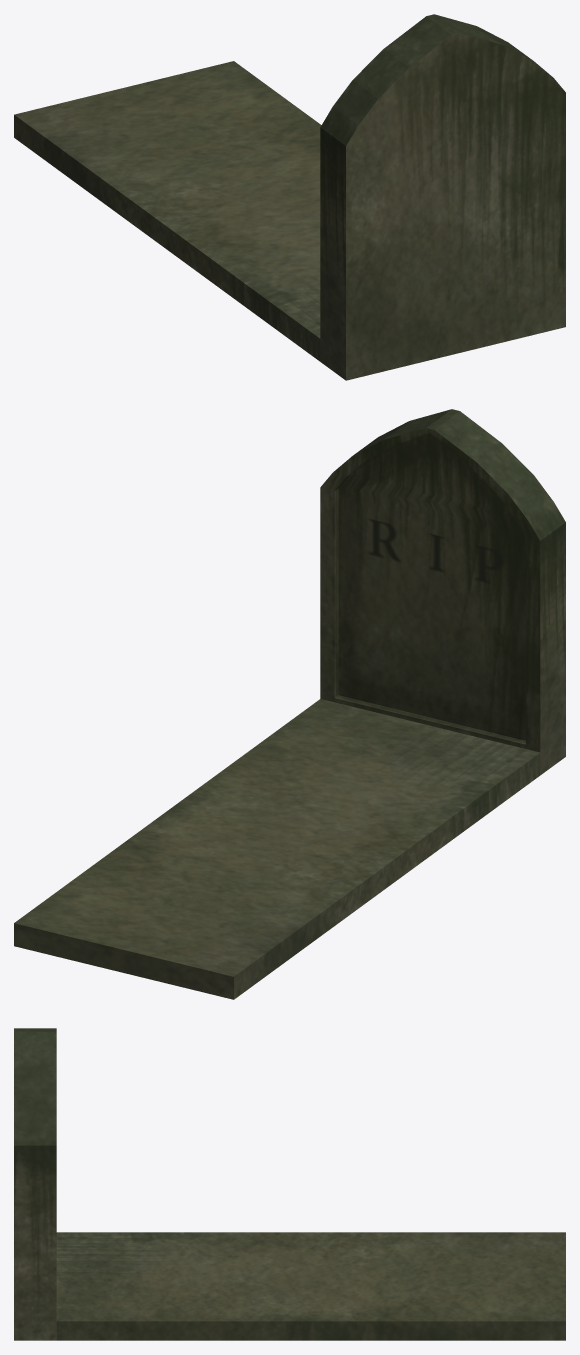
File: grave_07.fbx
The picture shows the model from 3 angles, top to bottom: view 1: azimuth 30°, elevation 25°; view 2: azimuth 150°, elevation 25°; view 3: azimuth 270°, elevation 25°; orthographic projection. The views are drawn at different scales.
Visible parts, largest first — view 1: grave_7; view 2: grave_7; view 3: grave_7.
Boxes of the visible parts, bbox=[...] form: grave_7: bbox=[14, 14, 565, 380]; grave_7: bbox=[14, 409, 565, 999]; grave_7: bbox=[14, 1028, 565, 1340].
Size of the model in its own units: 1.14 by 1.58 by 2.98.
